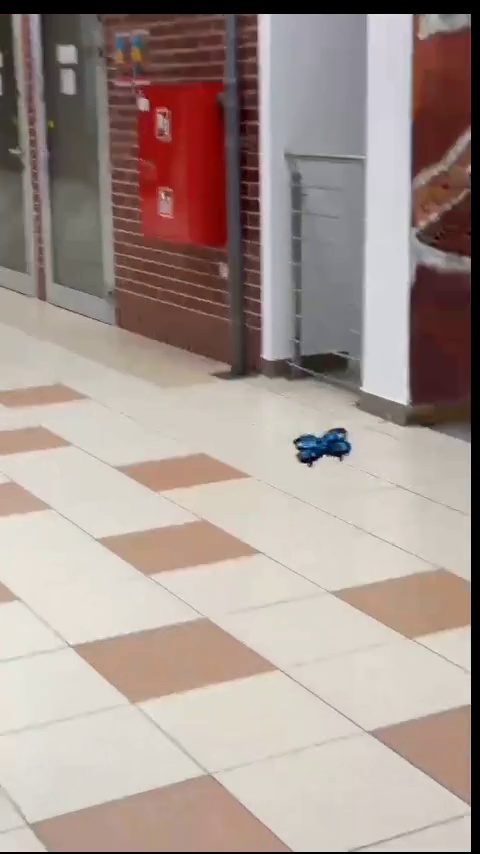drone: (294, 429, 354, 466)
